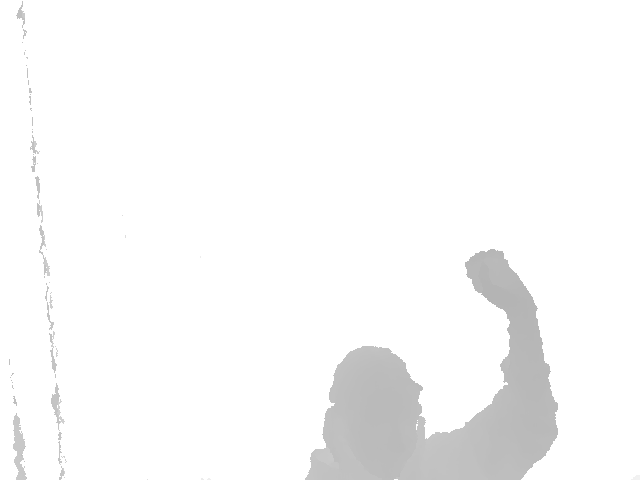hand: (464, 249, 538, 312)
head: (330, 346, 422, 465)
person: (302, 249, 561, 480)
